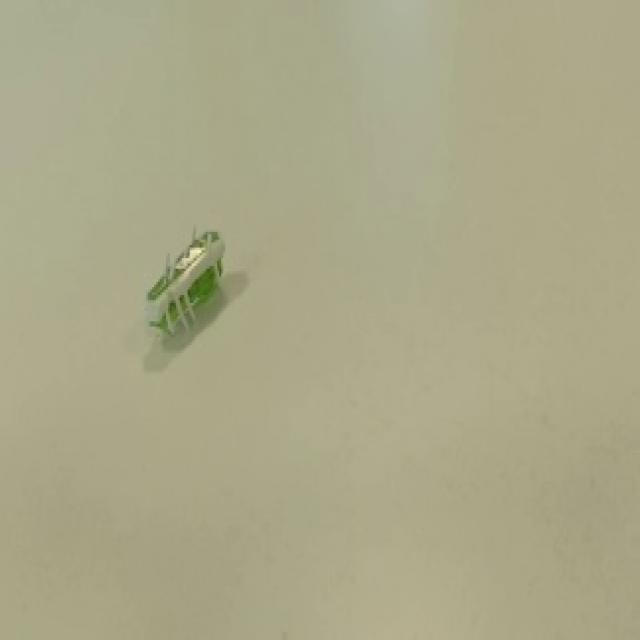4_NanoBug_Blanco: (115, 205, 256, 383)
